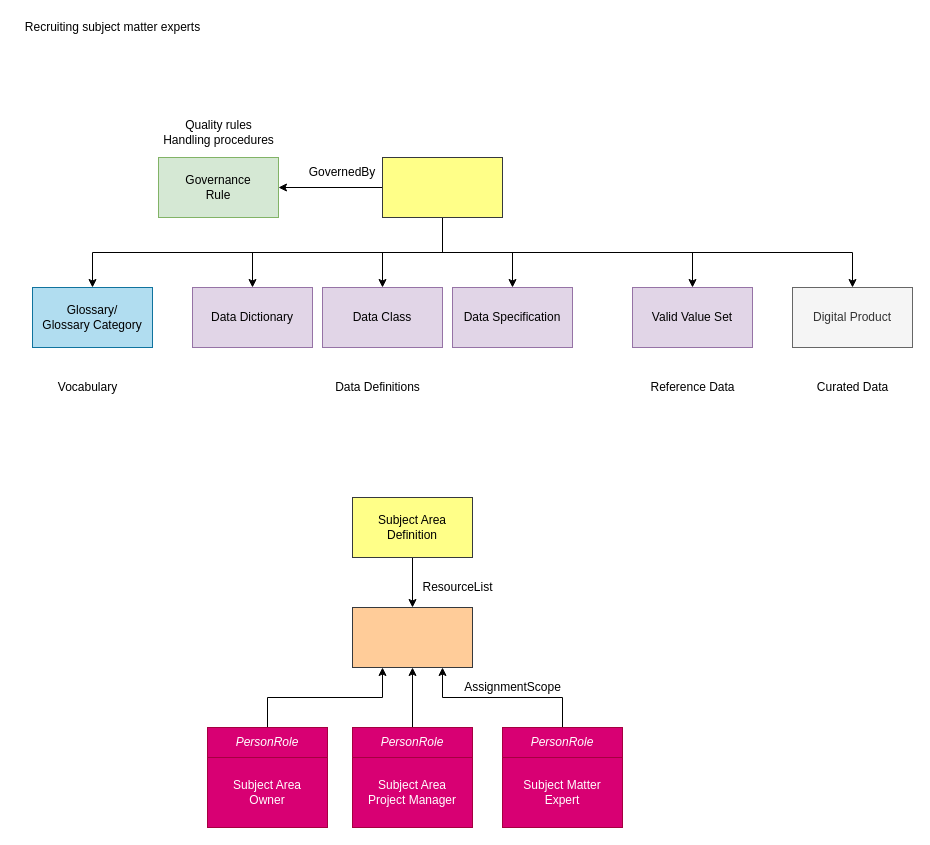
Some shapes in this 930 by 845 pixel diagram are drawn without their labels. The shapes that lost their labels are listed below. From the top down, each one's box as (x1, y1, x2, y2) in pixels, then its label:
(382, 156, 502, 218): Subject Area
(352, 606, 472, 668): Subject Area Community
